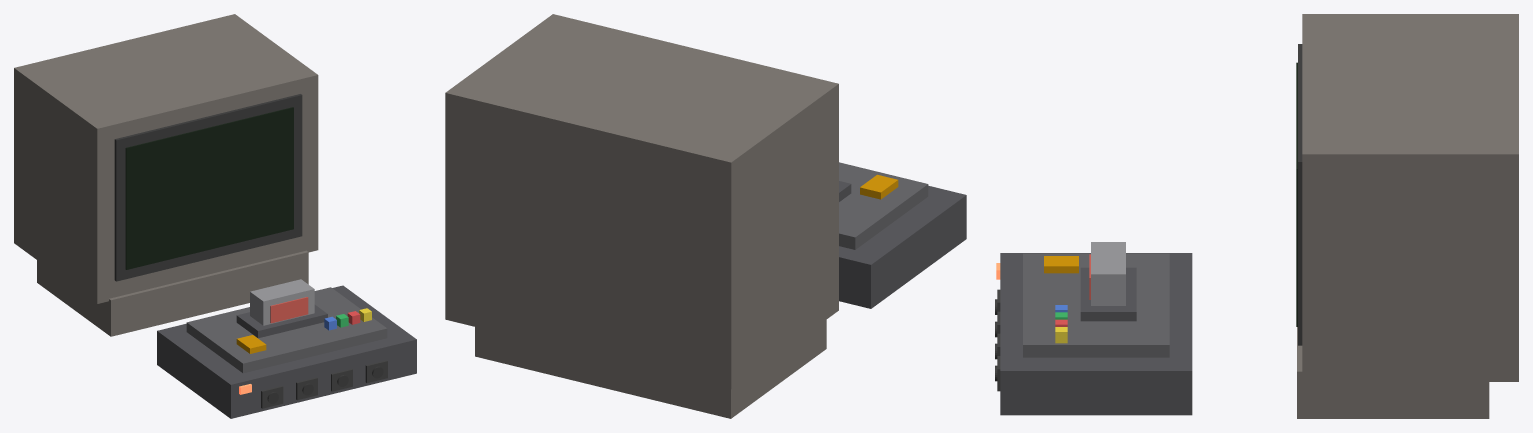
3 renders of one model, left to right at view 1: azimuth 30°, elevation 25°; view 2: azimuth 150°, elevation 25°; view 3: azimuth 270°, elevation 25°, orthographic. The views are drawn at different scales.
Visible parts, largest first — view 1: tv_body, screen, console_base, tv_stand, console_top, screen_bezel, cartridge, cart_slot, cart_label, knob_reset; view 2: tv_body, tv_stand, console_base, console_top, knob_reset; view 3: tv_body, console_base, console_top, tv_stand, cartridge, cart_slot, screen_bezel, knob_reset, screen.
Part boxes in pixels (x1,y1,x2,y2): tv_body: (14,14,318,303); screen: (125,107,293,269); console_base: (157,285,416,418); tv_stand: (37,250,308,336); console_top: (186,287,387,373); screen_bezel: (114,94,302,281); cartridge: (250,279,314,325); cart_slot: (236,304,327,338); cart_label: (270,297,308,323); knob_reset: (236,335,266,353); tv_body: (445,14,838,389); tv_stand: (475,320,826,418); console_base: (839,185,966,308); console_top: (839,162,928,249); knob_reset: (860,174,898,199); tv_body: (1302,14,1518,381); console_base: (1000,253,1192,415); console_top: (1023,253,1169,357); tv_stand: (1297,327,1489,418); cartridge: (1091,242,1125,305); cart_slot: (1080,267,1136,321); screen_bezel: (1298,44,1302,345); knob_reset: (1044,256,1078,273); screen: (1296,62,1297,326).
Bounding box in the file's own units: 1.9 × 1.72 × 3.
